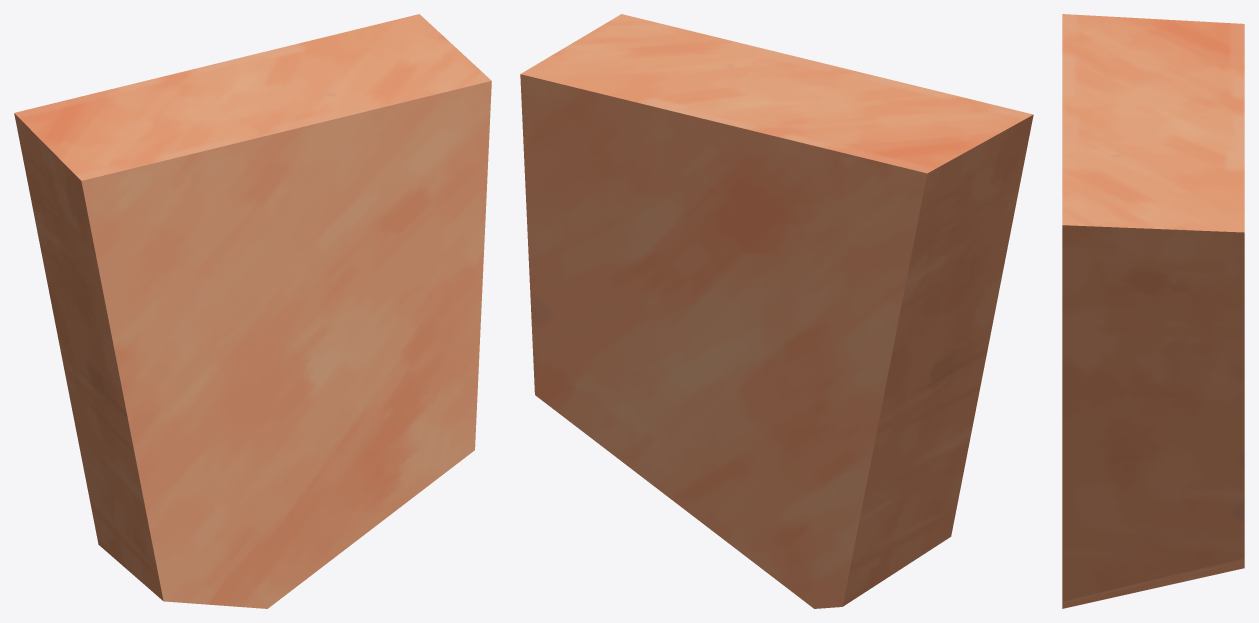
Rendered from wall_upper_window_s01.fbx.
The picture shows the model from 3 angles, left to right: view 1: azimuth 30°, elevation 25°; view 2: azimuth 150°, elevation 25°; view 3: azimuth 270°, elevation 25°; orthographic projection. The views are drawn at different scales.
Visible parts, largest first — view 1: wall_upper_window_s01; view 2: wall_upper_window_s01; view 3: wall_upper_window_s01.
Part boxes in pixels (x1=…): wall_upper_window_s01: x1=14, y1=14, x2=491, y2=608; wall_upper_window_s01: x1=520, y1=14, x2=1033, y2=608; wall_upper_window_s01: x1=1062, y1=14, x2=1244, y2=608.
Bounding box in the file's own units: 2.83 × 3.02 × 1.
